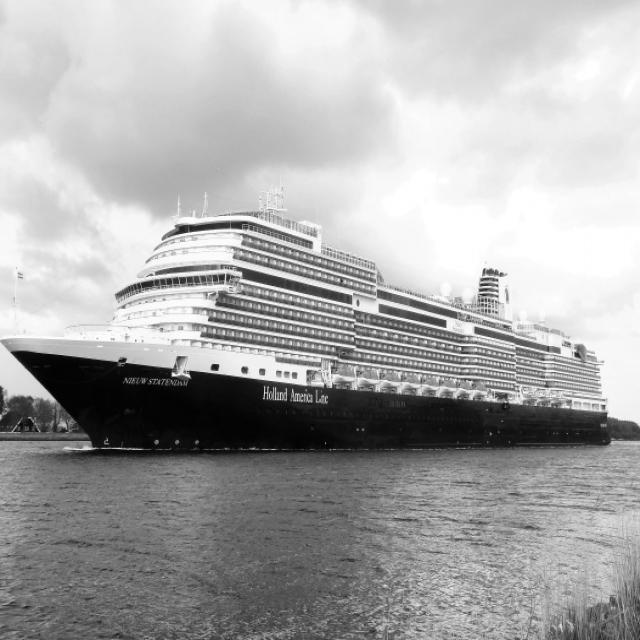cruises: (1, 189, 618, 453)
